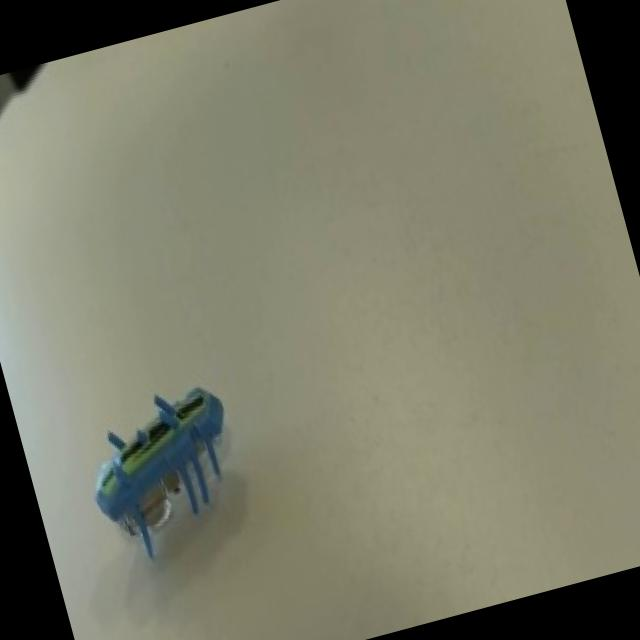3_NanoBug_Celeste: (12, 330, 309, 630)
